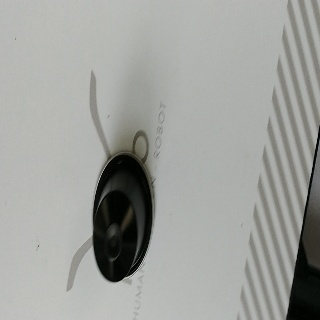capsule_10: (92, 150, 155, 284)
